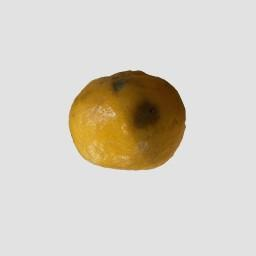Unripe: (71, 73, 189, 172)
